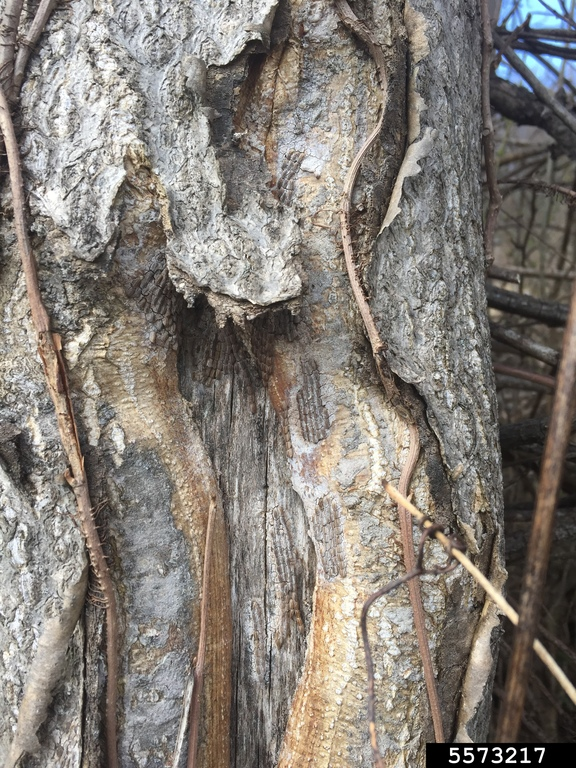egg masses: (277, 350, 337, 446), (297, 491, 356, 580), (264, 143, 311, 204)
